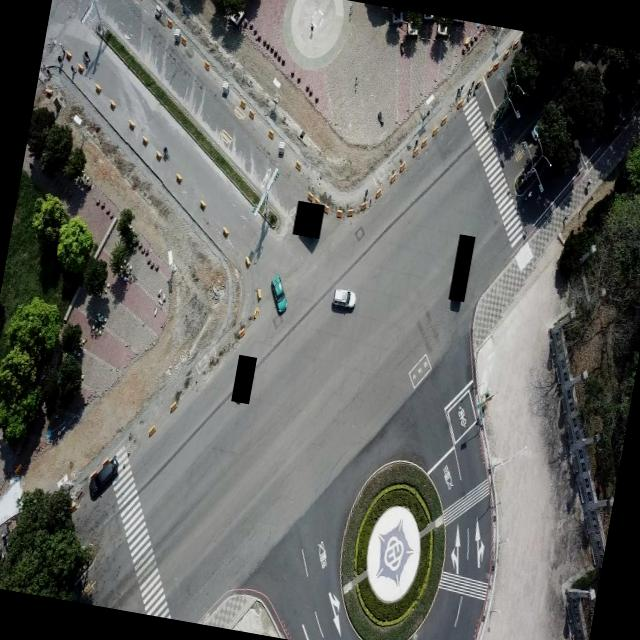car: (86, 451, 120, 502), (266, 271, 290, 314), (330, 285, 356, 312)
